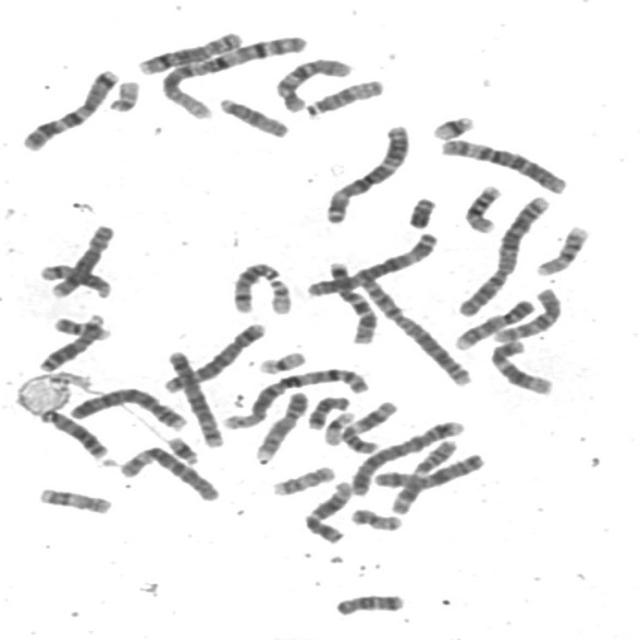A1: (155, 30, 311, 121), (217, 362, 373, 431)
A2: (354, 272, 476, 388), (453, 190, 553, 318)
A3: (300, 225, 444, 299), (319, 118, 415, 225)
B4: (344, 415, 466, 498), (64, 382, 192, 431)
B5: (159, 316, 270, 395), (161, 344, 228, 448)
C10: (270, 51, 356, 114), (490, 282, 566, 344)
C11: (384, 434, 462, 516), (335, 396, 401, 455)
C12: (486, 334, 558, 396), (298, 476, 356, 545)
C6: (436, 133, 572, 195), (114, 440, 224, 503)
C7: (16, 63, 124, 152), (323, 256, 381, 345)
C8: (45, 219, 118, 300), (133, 26, 246, 76)
C9: (449, 294, 539, 351), (250, 388, 312, 463)
D13: (34, 309, 109, 373), (34, 403, 112, 461)
D14: (34, 258, 115, 299), (228, 256, 284, 314)
D15: (301, 73, 388, 119), (213, 92, 294, 138)
E16: (531, 220, 593, 276), (459, 180, 505, 234)
E17: (32, 482, 116, 516), (266, 460, 340, 497)
E18: (330, 588, 408, 618), (304, 391, 355, 430)
F19: (253, 346, 310, 376), (319, 406, 357, 447)
F20: (48, 311, 113, 341), (345, 503, 406, 533)
G21: (427, 110, 478, 141), (162, 430, 203, 466)
G22: (104, 75, 142, 113), (263, 274, 296, 316)
X: (368, 448, 490, 491)
Y: (402, 192, 440, 230)
